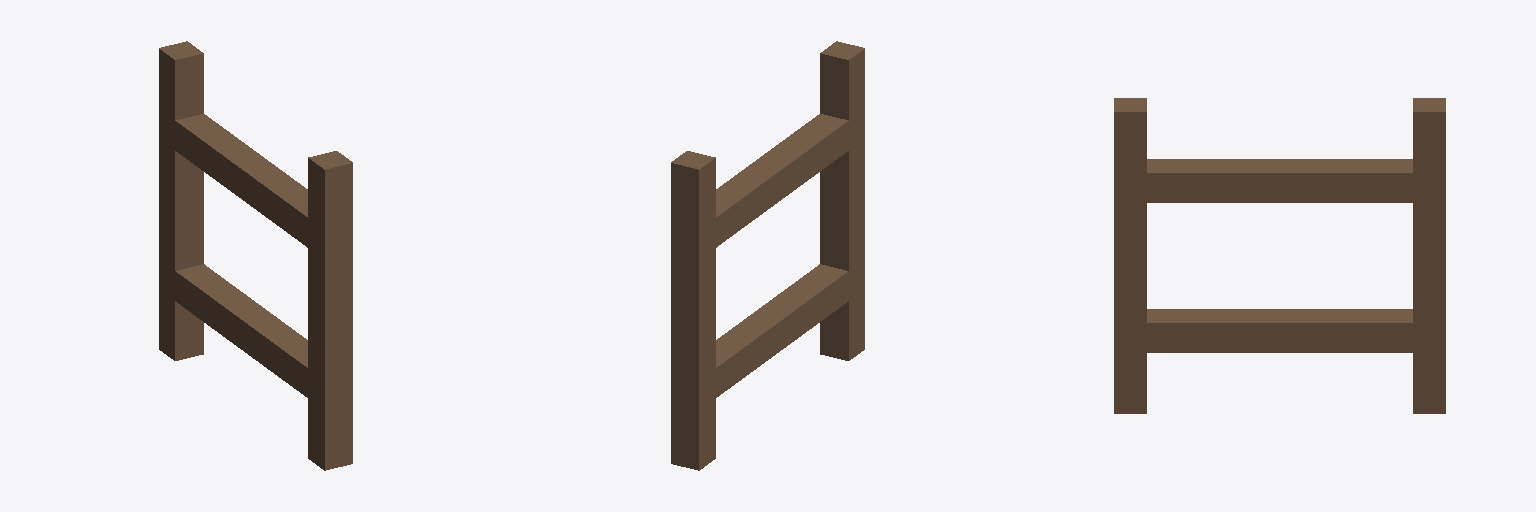
3 renders of one model, left to right at view 1: azimuth 30°, elevation 25°; view 2: azimuth 150°, elevation 25°; view 3: azimuth 270°, elevation 25°, orthographic.
Visible parts, largest first — view 1: object 1; view 2: object 1; view 3: object 1.
Part boxes in pixels (x1,y1,x2,y2): object 1: (159,41,352,470); object 1: (671,41,864,470); object 1: (1114,98,1445,413).
Bounding box in the file's own units: 0.1 × 1 × 1.
Materials: 1 (1 with a texture image).